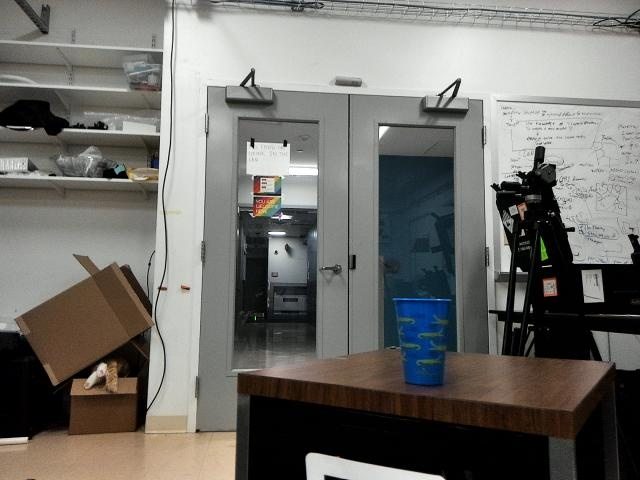water_cup: (394, 296, 454, 390)
